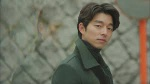male: (69, 5, 127, 65)
